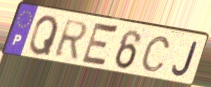6: (114, 29, 143, 71)
C: (139, 35, 172, 74)
E: (78, 20, 120, 71)
J: (170, 41, 199, 79)
Q: (28, 14, 61, 58)
R: (52, 18, 90, 61)
